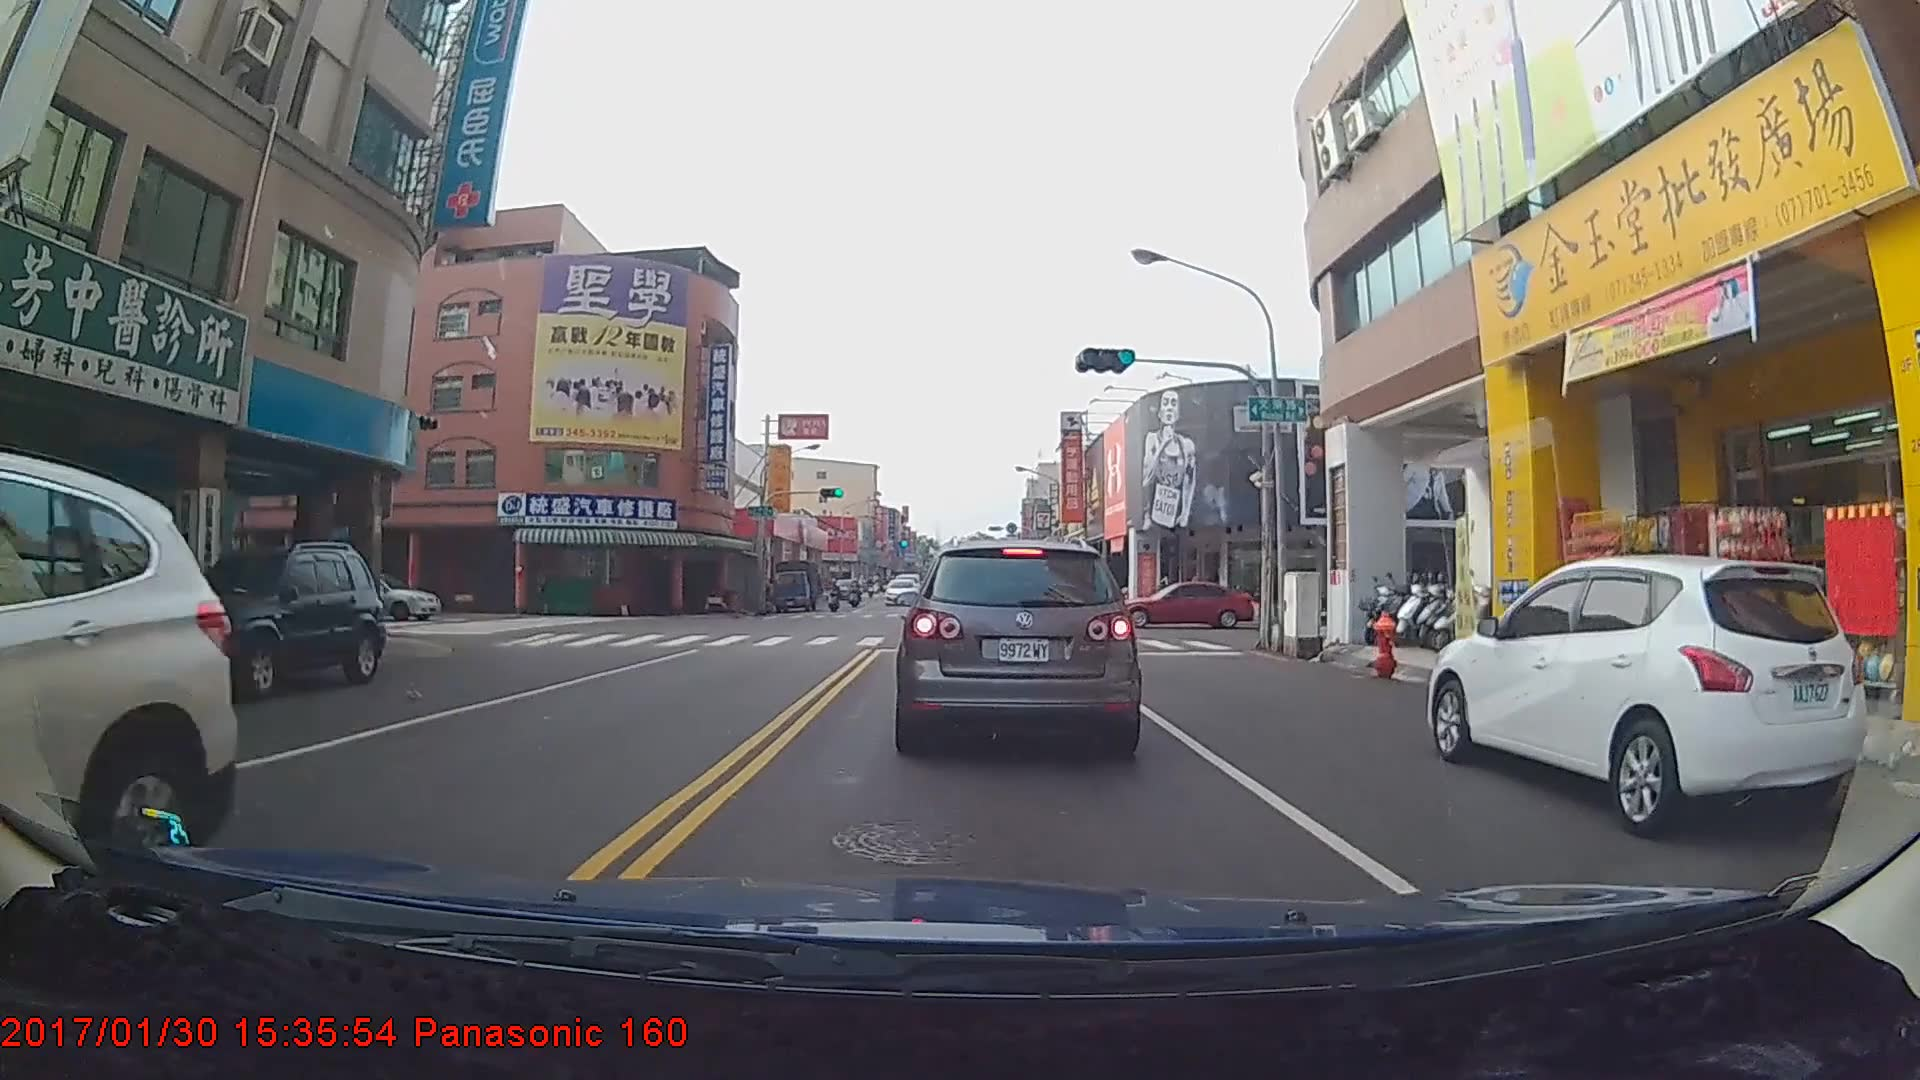rider: (820, 581, 844, 617), (846, 579, 866, 608)
vehicle: (0, 465, 237, 1036), (1436, 548, 1869, 840), (896, 535, 1136, 754), (151, 540, 386, 701), (1109, 578, 1252, 630), (305, 570, 441, 621), (769, 560, 821, 614), (883, 579, 919, 609)
